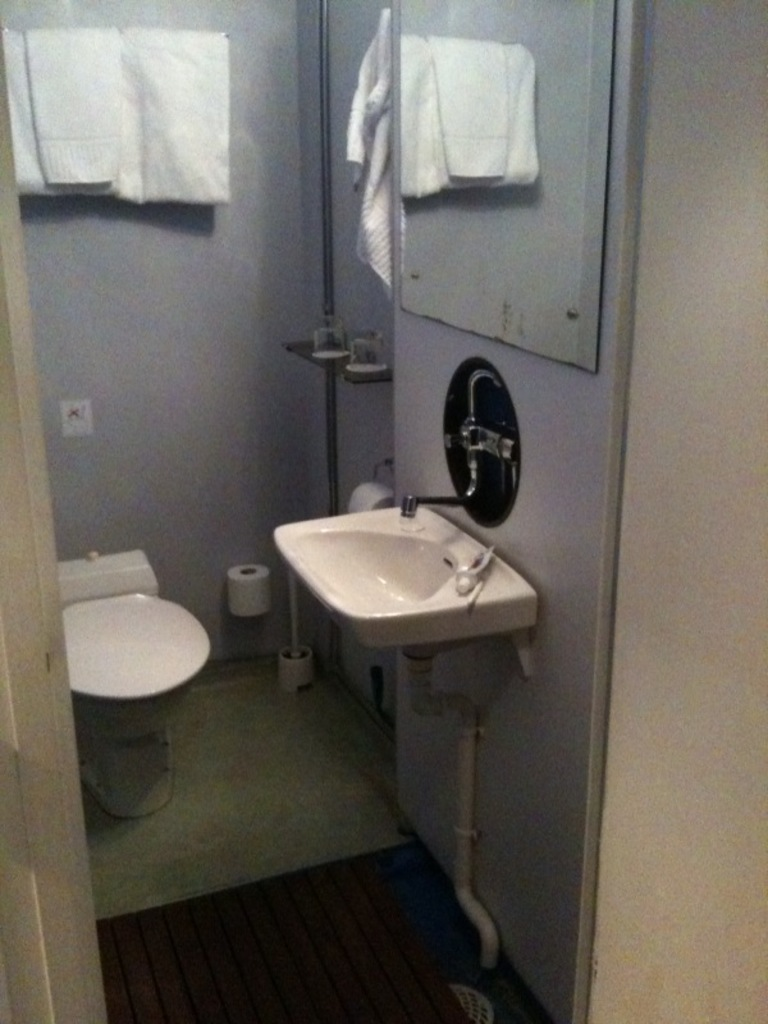tap: (392, 424, 488, 514)
